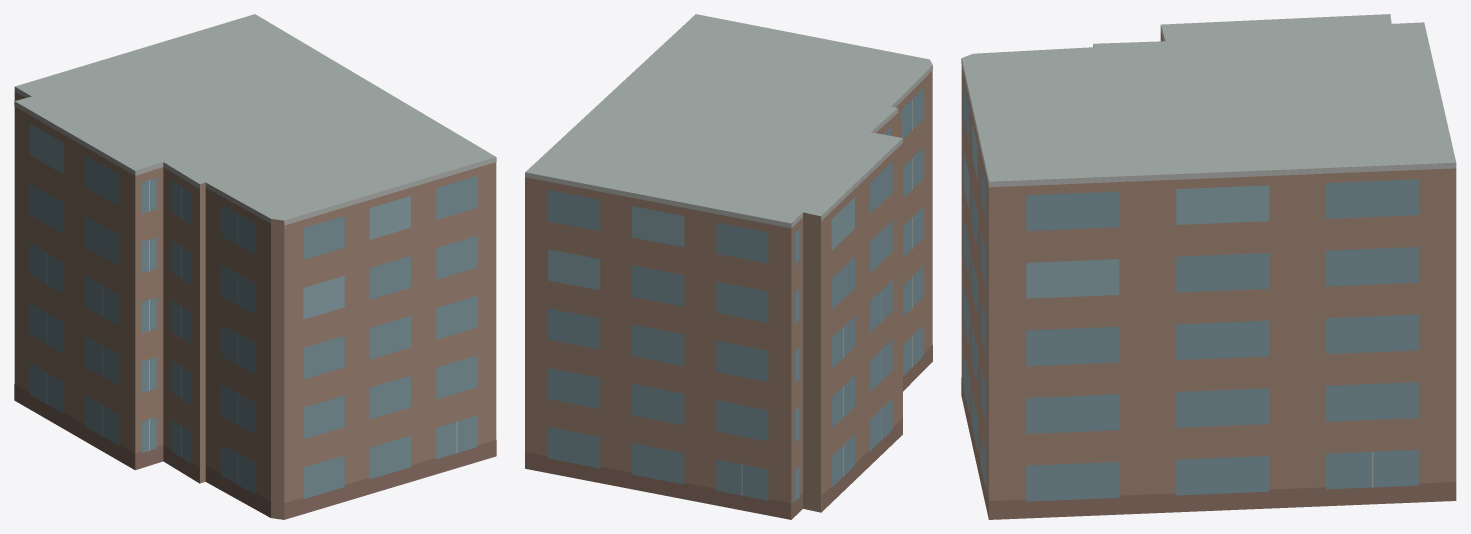
The model's file is survey-upis-32743529.glb.
3 views of the same model, side by side, from view 1: azimuth 30°, elevation 25°; view 2: azimuth 150°, elevation 25°; view 3: azimuth 270°, elevation 25° (orthographic). The views are drawn at different scales.
Parts seen in each view (by area): view 1: survey-upis-32743529.tmp; view 2: survey-upis-32743529.tmp; view 3: survey-upis-32743529.tmp.
Boxes of the visible parts, x1,y1,x2,y2 form: survey-upis-32743529.tmp: [14, 14, 496, 519]; survey-upis-32743529.tmp: [525, 14, 932, 519]; survey-upis-32743529.tmp: [961, 14, 1456, 519].
Size of the model in its own units: 15.65 by 14.7 by 19.5.
